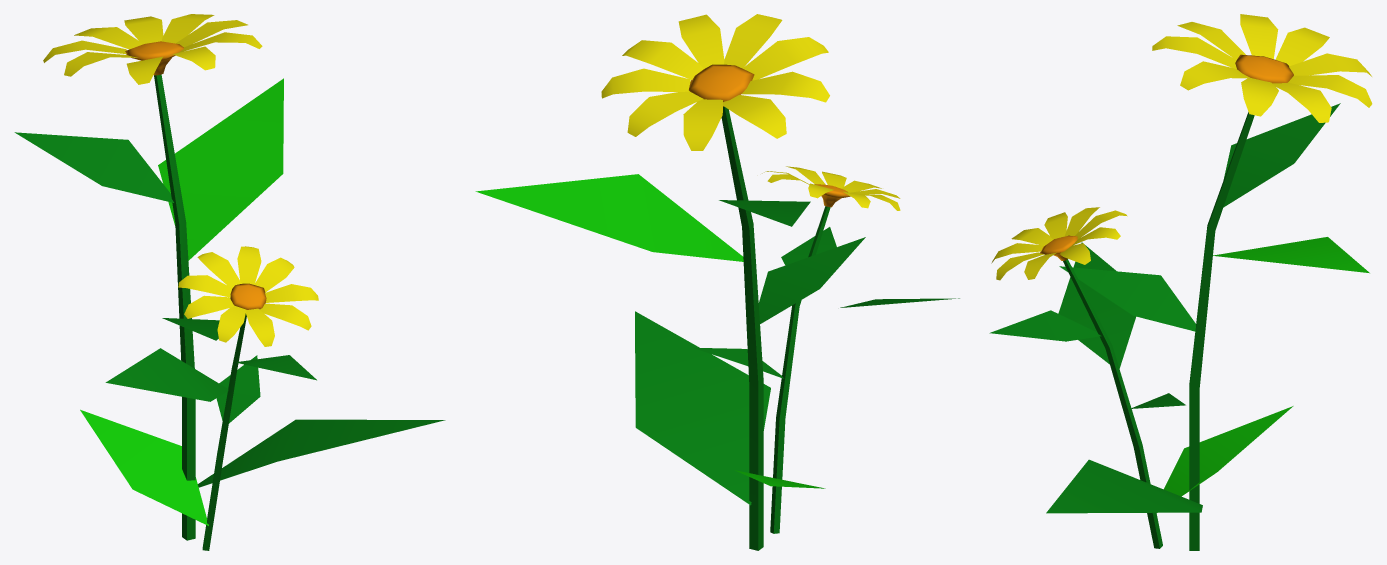
The model's file is flower1.glb.
3 views of the same model, side by side, from view 1: azimuth 30°, elevation 25°; view 2: azimuth 150°, elevation 25°; view 3: azimuth 270°, elevation 25° (orthographic). The views are drawn at different scales.
Visible parts, largest first — view 1: Cube.001_0, Cube.001_1, Cube.001_2, Cube.001_3; view 2: Cube.001_0, Cube.001_2, Cube.001_1, Cube.001_3; view 3: Cube.001_0, Cube.001_2, Cube.001_1, Cube.001_3.
Part boxes in pixels (x1,y1,x2,y2): Cube.001_0: (14, 74, 445, 550); Cube.001_1: (80, 78, 283, 525); Cube.001_2: (43, 14, 318, 346); Cube.001_3: (125, 41, 266, 309); Cube.001_0: (635, 106, 959, 550); Cube.001_2: (601, 14, 900, 210); Cube.001_1: (475, 174, 825, 488); Cube.001_3: (689, 64, 850, 207); Cube.001_0: (989, 103, 1340, 550); Cube.001_2: (991, 14, 1372, 280); Cube.001_1: (1156, 237, 1369, 512); Cube.001_3: (1040, 54, 1293, 260).
Bounding box in the file's own units: 0.2302 × 0.3321 × 0.2277.
